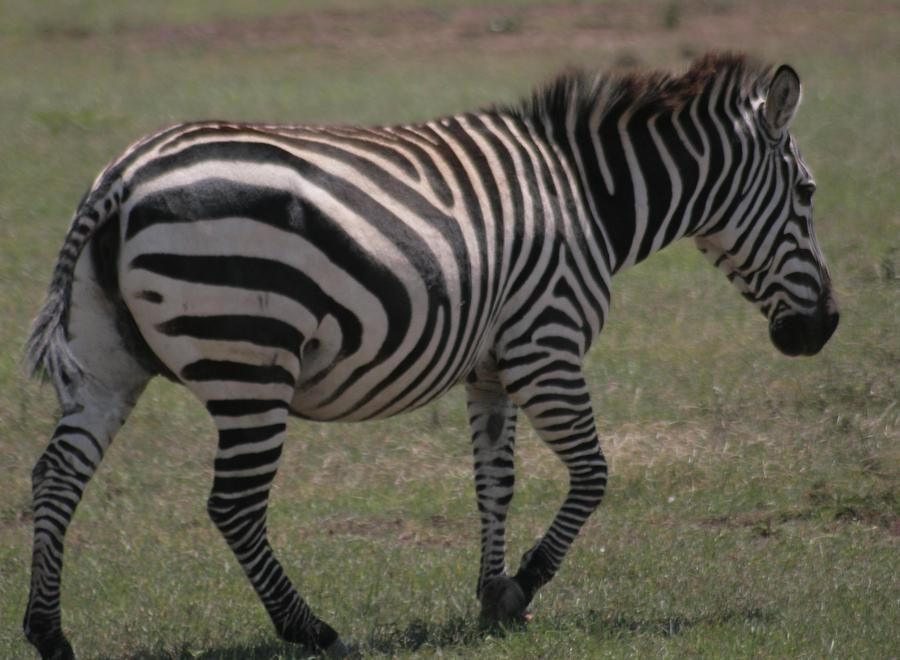zebra_plains: (177, 96, 603, 422)
